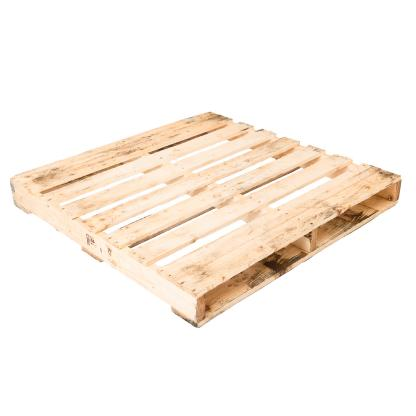BoxFace: (9, 110, 404, 331)
